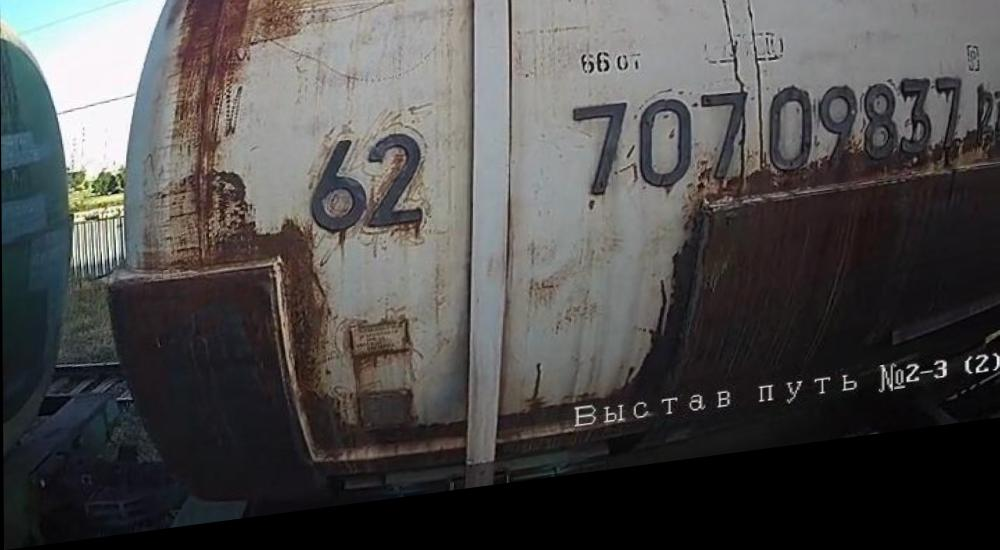Wagon-number: (571, 77, 965, 228)
